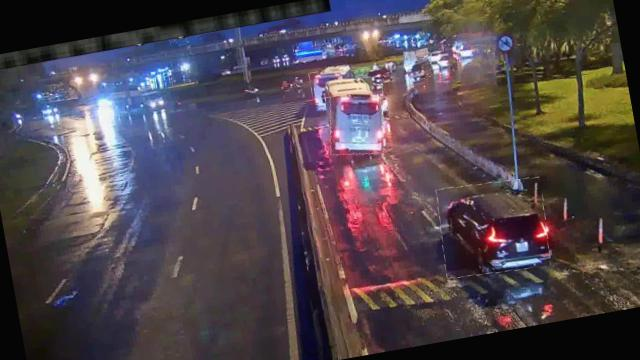Bus: (321, 70, 392, 159), (309, 66, 360, 100)
Car: (434, 172, 554, 281), (362, 63, 394, 86), (406, 56, 434, 82)
